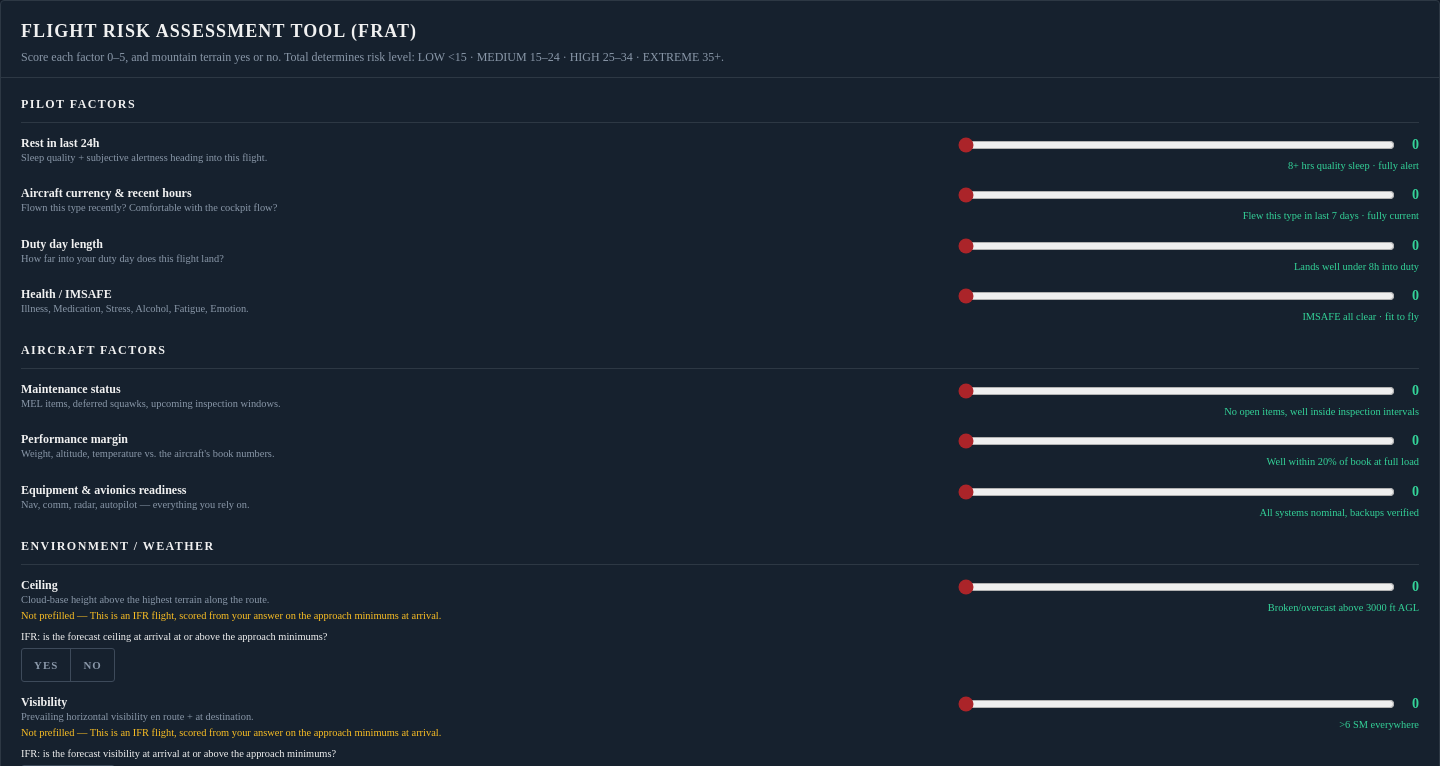
Test: the approach minimums on an IFR flight › scores a no over company limits and holds it there
Click the 1st button "No". click: click(92, 665)
box: [70, 649, 114, 681]
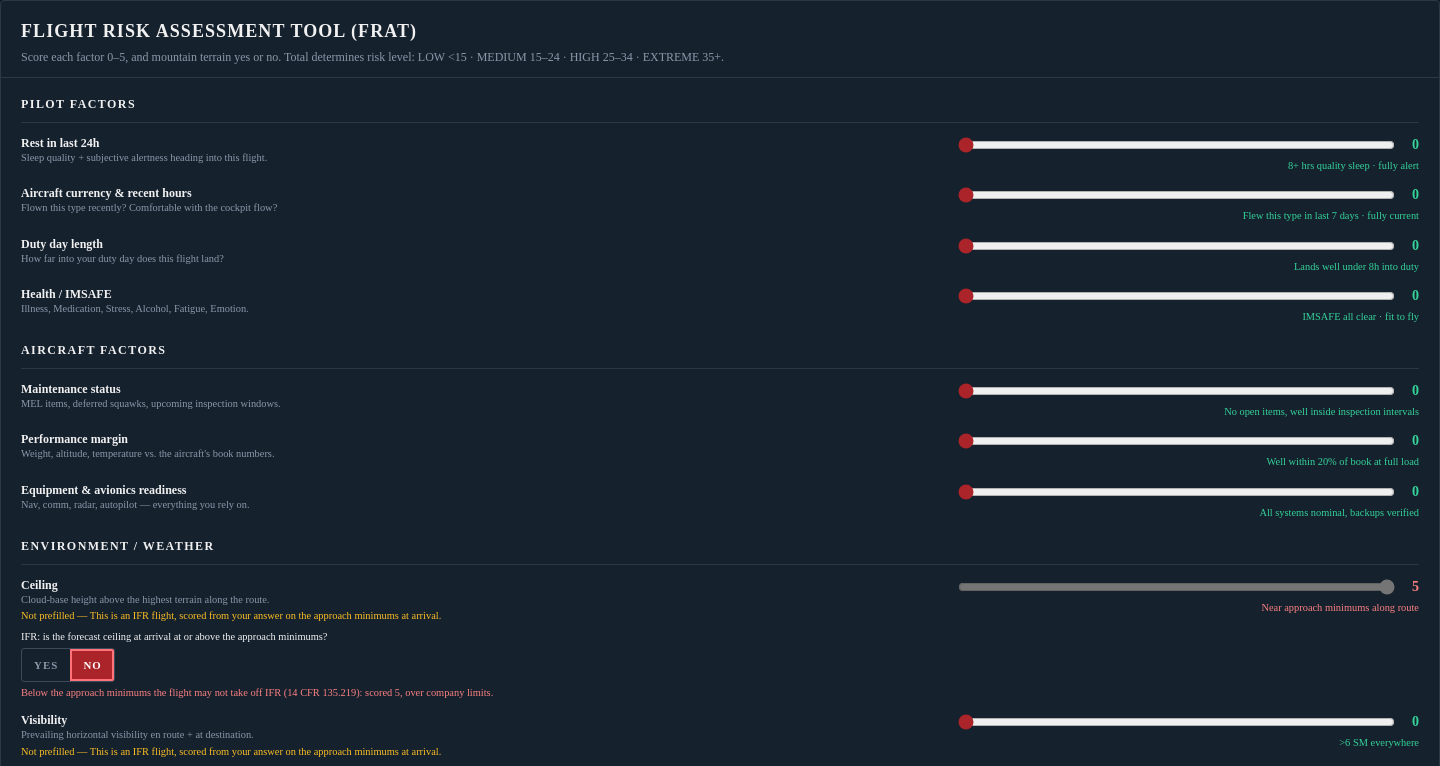
Check: the slider labelled "Ceiling" holds "5", box [958, 579, 1395, 595]
Check: the slider labelled "Ceiling" is disabled, box [958, 579, 1395, 595]
Check: the text "may not take off IFR (14 CFR 135.219)" is shown, box [21, 687, 493, 698]
Note: Yes again lets it go back to what the weather scored.
Click the 1st button "Yes". click: click(46, 665)
box: [22, 649, 70, 681]
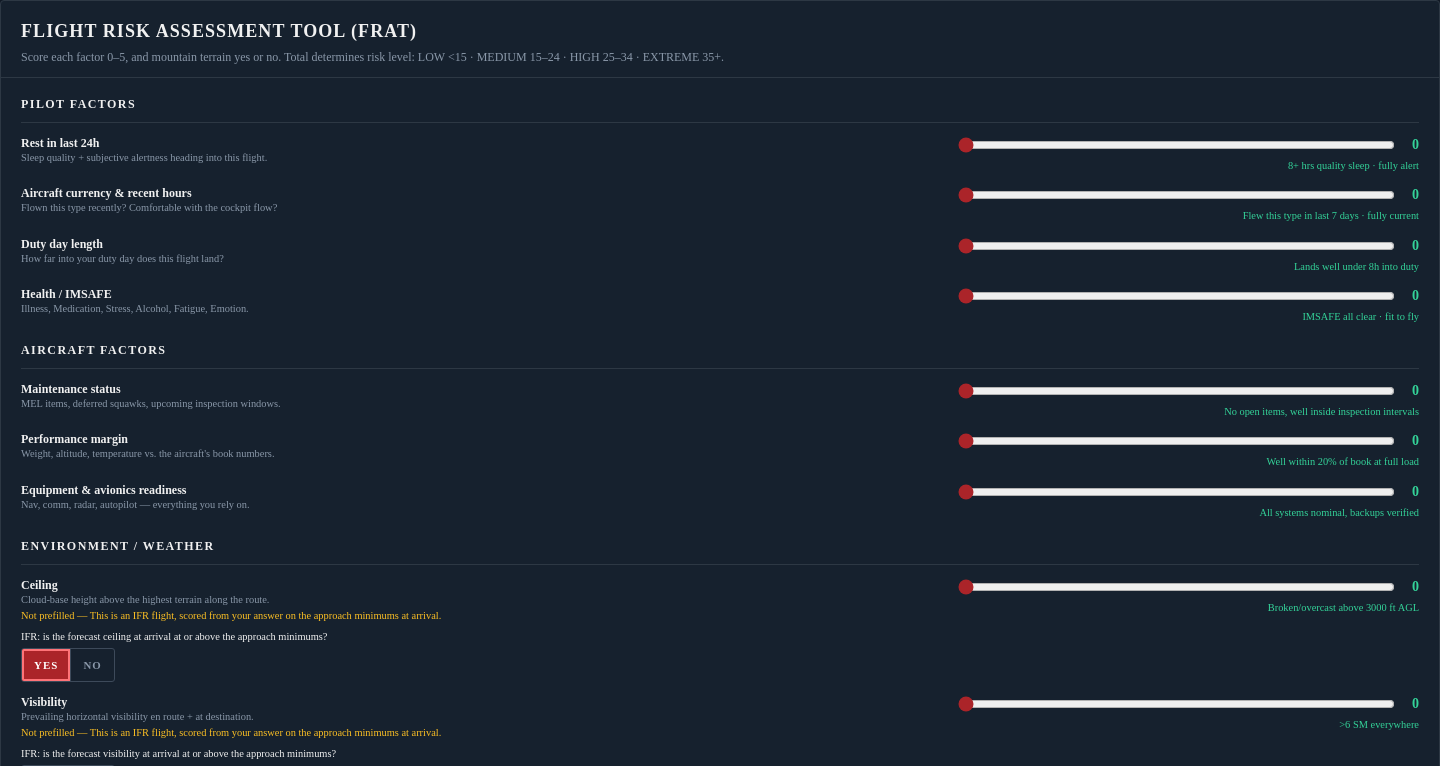
Check: the slider labelled "Ceiling" holds "0", box [958, 579, 1395, 595]
Check: the slider labelled "Ceiling" is enabled, box [958, 579, 1395, 595]
